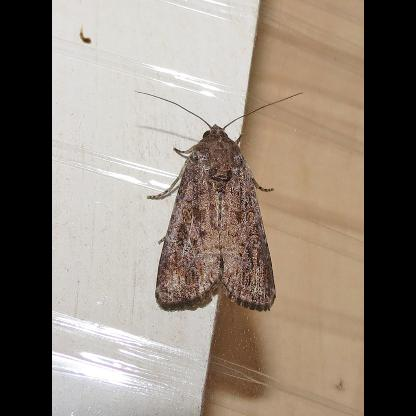Fall Armyworm Moth: (129, 87, 307, 315)
